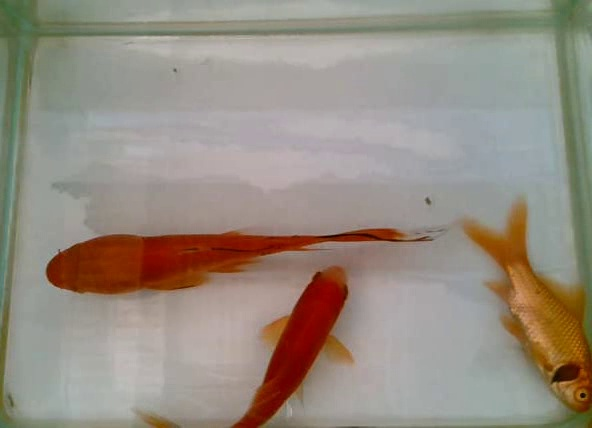alive_fish: (133, 262, 361, 428), (42, 220, 465, 299)
dead_fish: (450, 188, 592, 417)
